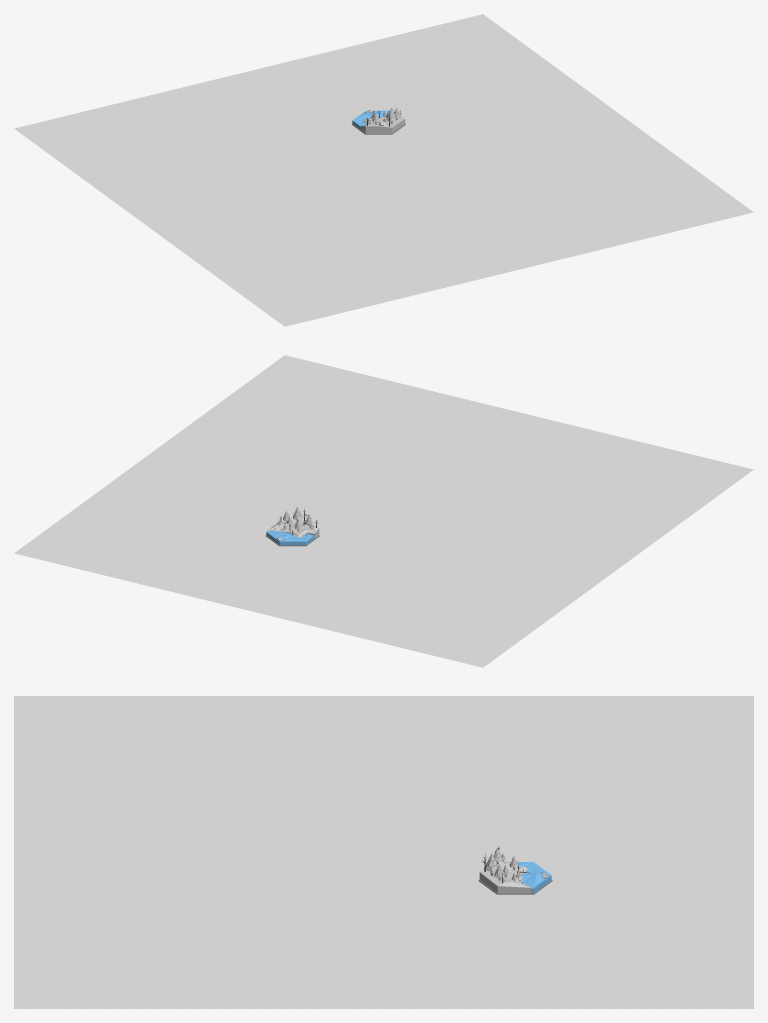
File: pocketHouse_Harz_v010.fbx
The picture shows the model from 3 angles, top to bottom: view 1: azimuth 30°, elevation 25°; view 2: azimuth 150°, elevation 25°; view 3: azimuth 270°, elevation 25°; orthographic projection. The views are drawn at different scales.
Visible parts, largest first — view 1: Plane.001, ground; view 2: Plane.001, ground; view 3: Plane.001, ground, water.
Boxes of the visible parts, <box> form: Plane.001: <box>14,14,753,326</box>; ground: <box>361,116,405,133</box>; Plane.001: <box>14,355,753,667</box>; ground: <box>267,520,319,538</box>; Plane.001: <box>14,696,753,1008</box>; ground: <box>479,859,530,893</box>; water: <box>510,862,551,893</box>.
Size of the model in its own units: 2000 by 91.14 by 2000.
